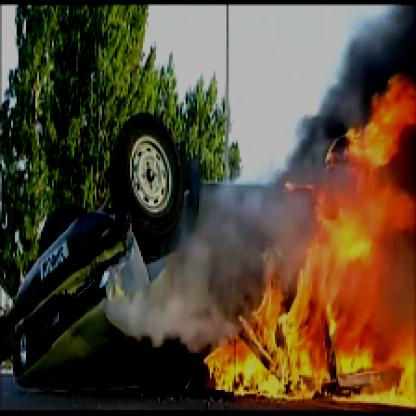Fire: (195, 54, 414, 414)
